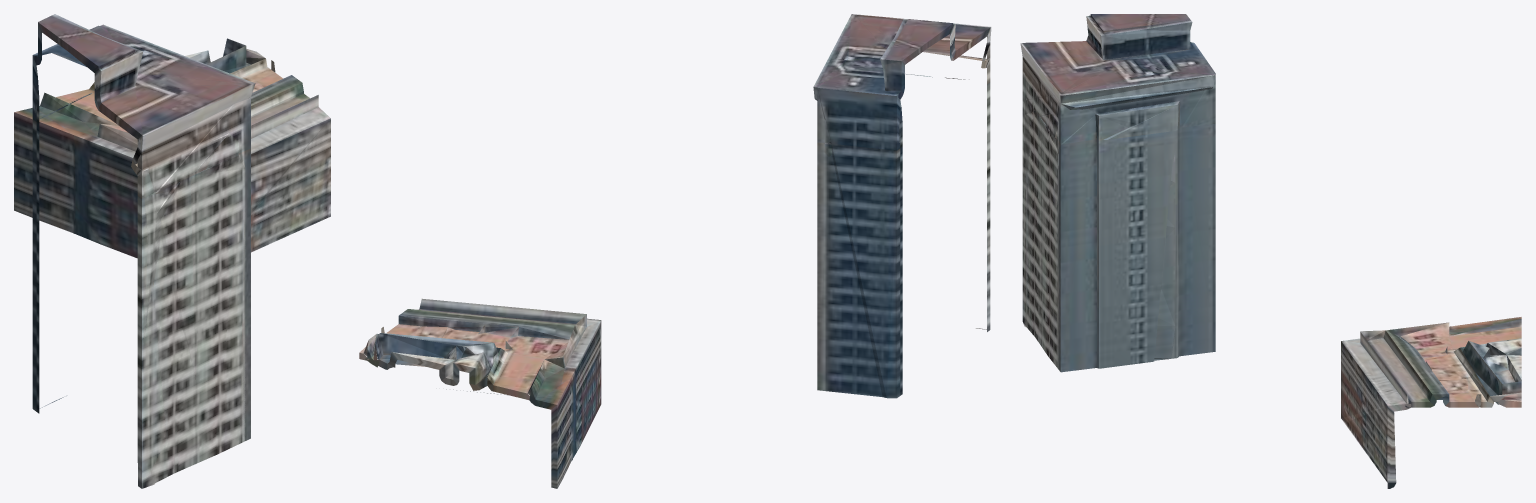
Rendered from chunk_-9_4.glb.
3 views of the same model, side by side, from view 1: azimuth 30°, elevation 25°; view 2: azimuth 150°, elevation 25°; view 3: azimuth 270°, elevation 25° (orthographic). The views are drawn at different scales.
Parts seen in each view (by area): view 1: hero-chunk; view 2: hero-chunk; view 3: hero-chunk.
Part boxes in pixels (bbox=[...]): hero-chunk: bbox=[14, 14, 330, 488]; hero-chunk: bbox=[359, 14, 991, 488]; hero-chunk: bbox=[1020, 14, 1521, 488].
Size of the model in its own units: 55.74 by 50.12 by 72.63.
1 material, 1 textured.
